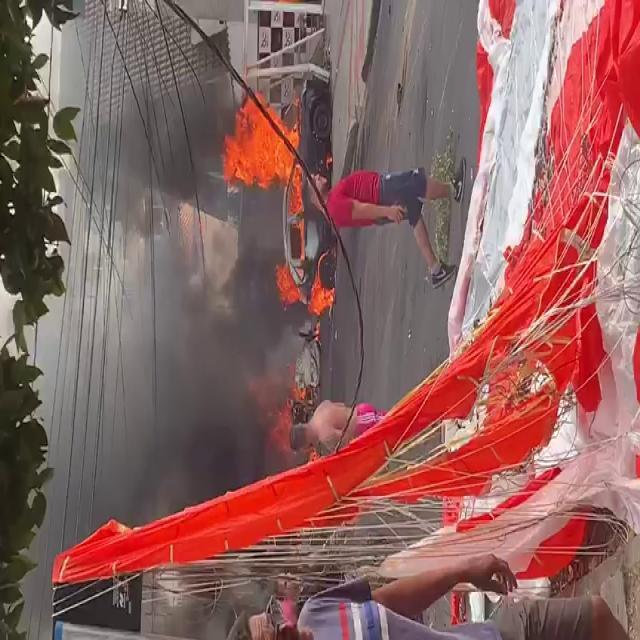Fire: (221, 95, 335, 314), (262, 386, 297, 454)
Smoke: (85, 84, 211, 498), (310, 321, 320, 344)
